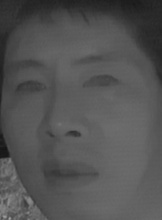eye: (14, 74, 50, 100), (83, 69, 119, 94)
mouth: (39, 154, 102, 196)
